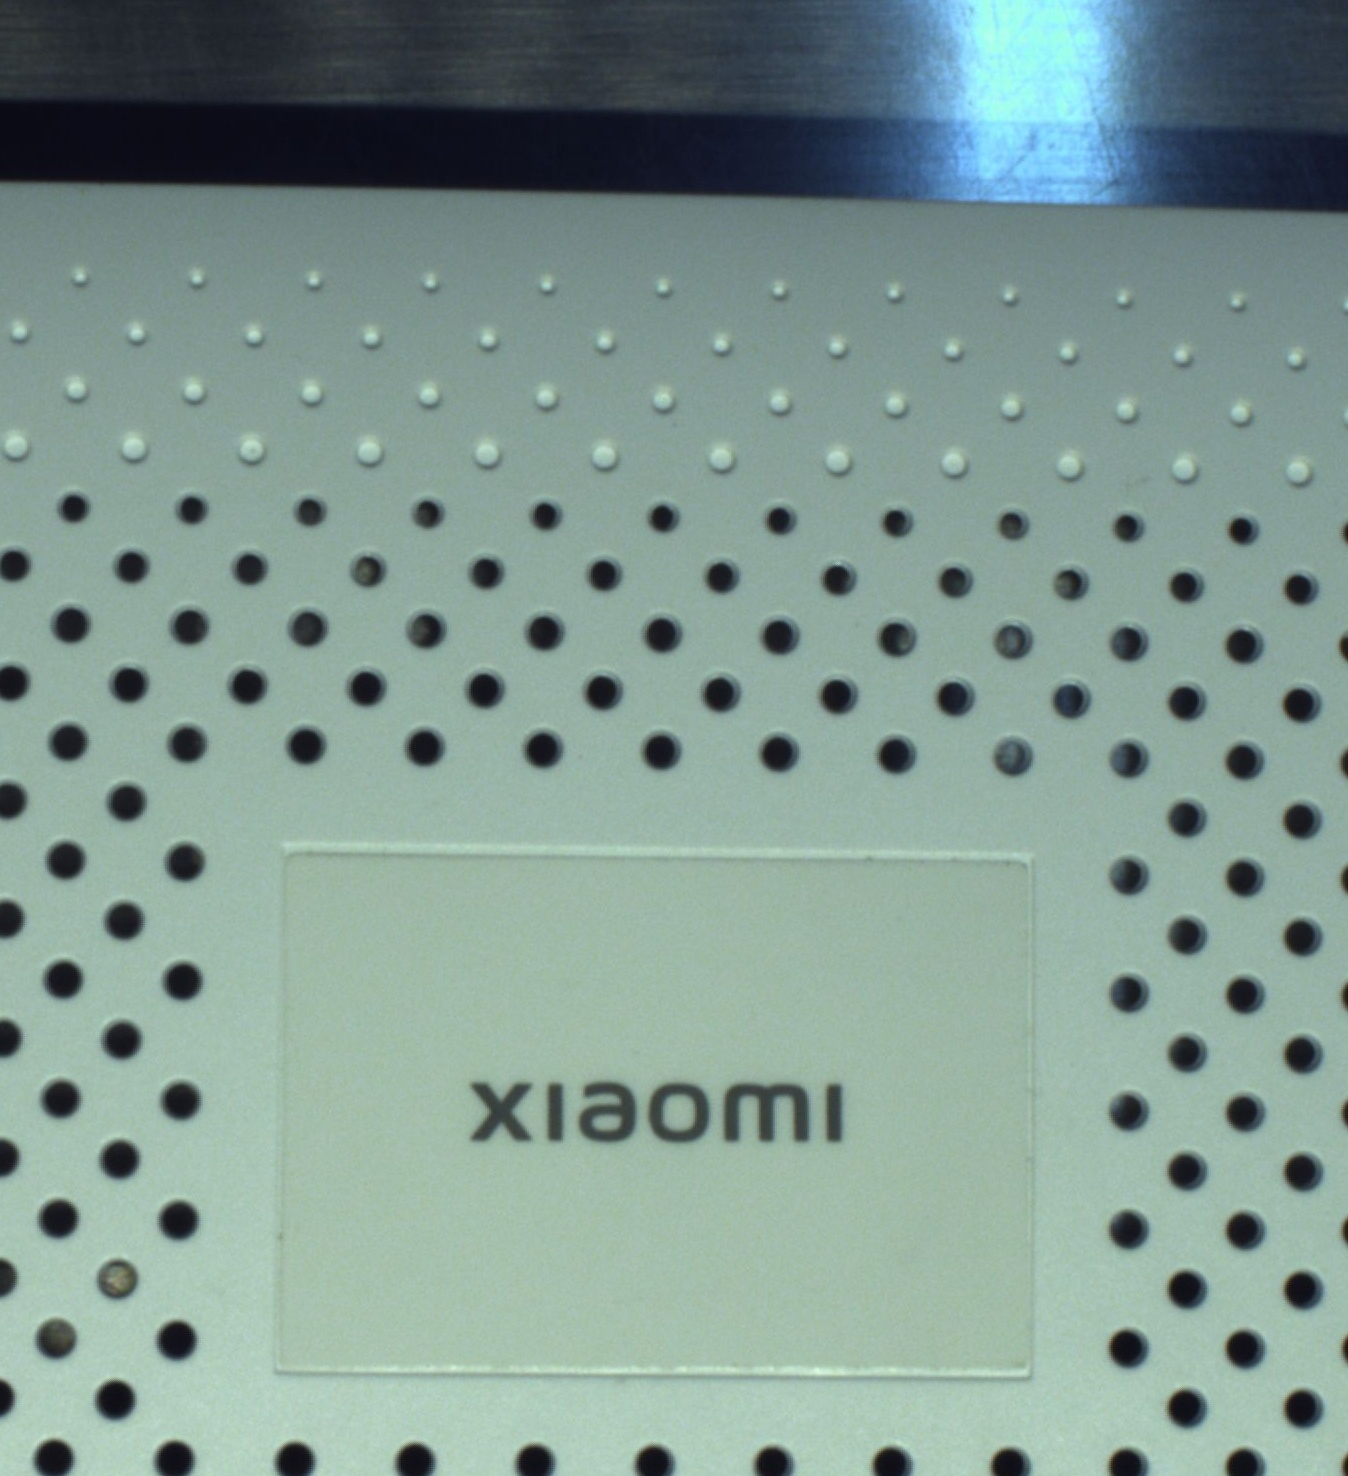MAB_OldUnicom: (445, 1063, 854, 1158)
